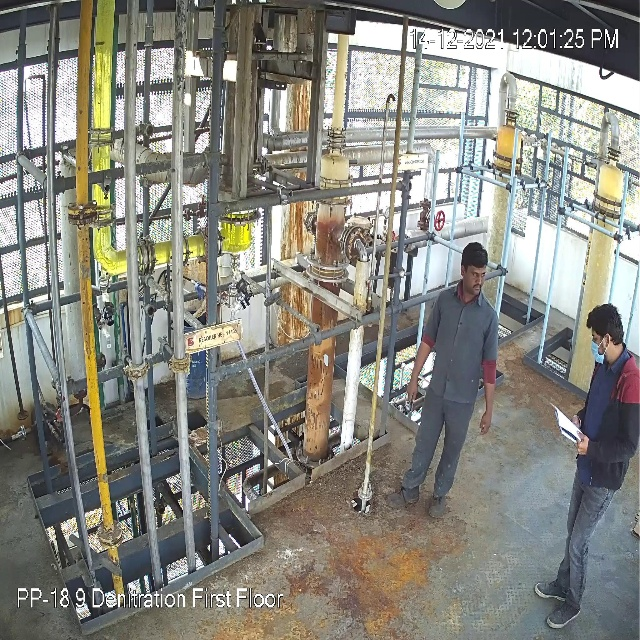Sin_gafas: (467, 268, 485, 277)
Sin_guantes: (408, 341, 432, 408), (477, 380, 498, 439)
Sin_mascara: (465, 277, 487, 296)
